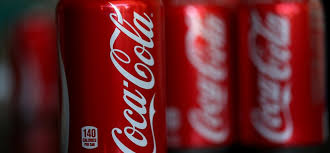coke-can: (55, 1, 169, 153), (244, 1, 329, 153)
